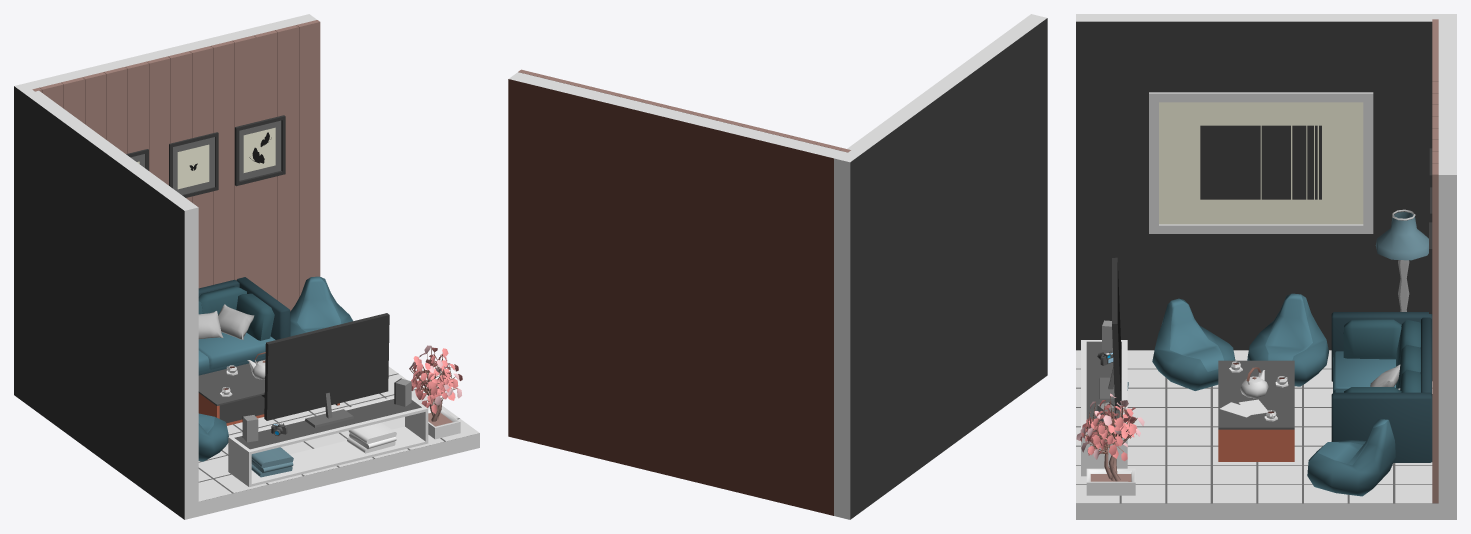
File: room_21.glb
The picture shows the model from 3 angles, left to right: view 1: azimuth 30°, elevation 25°; view 2: azimuth 150°, elevation 25°; view 3: azimuth 270°, elevation 25°; orthographic projection. The views are drawn at different scales.
Visible parts, largest first — view 1: Walls_011.017, electronics_033.002, tv_wall_016.001, sofa_036.001, Walls_150.010, Walls_150.011, Walls_150.014, Walls_046.001, floor_014.003, Walls_150.012, Walls_150.013, Walls_150.015 (+15 smaller); view 2: Walls_056.005, Walls_011.017; view 3: Walls_011.017, picture_011.003, floor_014.003, sofa_036.001, Walls_056.005, Walls_046.001, coffee_table_016.002, office_chair_022.003, office_chair_022.002, office_chair_022.001, flower_017.001, tv_wall_016.001 (+4 smaller).
Part boxes in pixels (<box>): Walls_011.017: <box>14,82,198,519</box>; electronics_033.002: <box>264,313,389,427</box>; tv_wall_016.001: <box>228,396,428,486</box>; sofa_036.001: <box>198,277,290,375</box>; Walls_150.010: <box>296,20,320,297</box>; Walls_150.011: <box>275,25,298,311</box>; Walls_150.014: <box>211,40,234,284</box>; Walls_046.001: <box>198,373,479,516</box>; floor_014.003: <box>198,366,479,501</box>; Walls_150.012: <box>253,30,277,300</box>; Walls_150.013: <box>232,35,256,284</box>; Walls_150.015: <box>189,46,213,288</box>; Walls_056.005: <box>508,72,842,515</box>; Walls_011.017: <box>834,14,1047,519</box>; Walls_011.017: <box>1076,14,1456,350</box>; picture_011.003: <box>1149,92,1373,233</box>; floor_014.003: <box>1076,350,1432,503</box>; sofa_036.001: <box>1331,312,1432,462</box>; Walls_056.005: <box>1438,21,1456,519</box>; Walls_046.001: <box>1076,368,1438,519</box>; coffee_table_016.002: <box>1218,360,1294,461</box>; office_chair_022.003: <box>1152,298,1235,390</box>; office_chair_022.002: <box>1307,419,1395,496</box>; office_chair_022.001: <box>1247,293,1328,386</box>; flower_017.001: <box>1076,393,1144,495</box>; tv_wall_016.001: <box>1081,340,1127,476</box>.
Size of the model in its own units: 4.2 by 4.2 by 4.2.
1 material, 1 textured.
